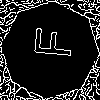F: (25, 25, 73, 59)
